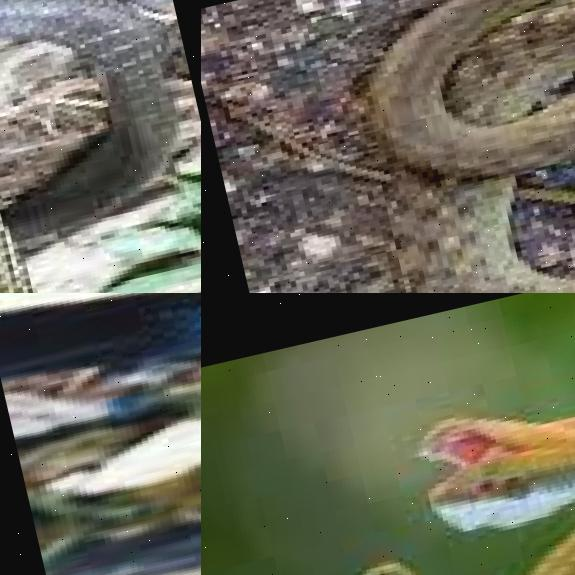snake: (201, 294, 575, 575), (294, 0, 575, 293), (0, 0, 201, 293), (0, 293, 201, 575)
